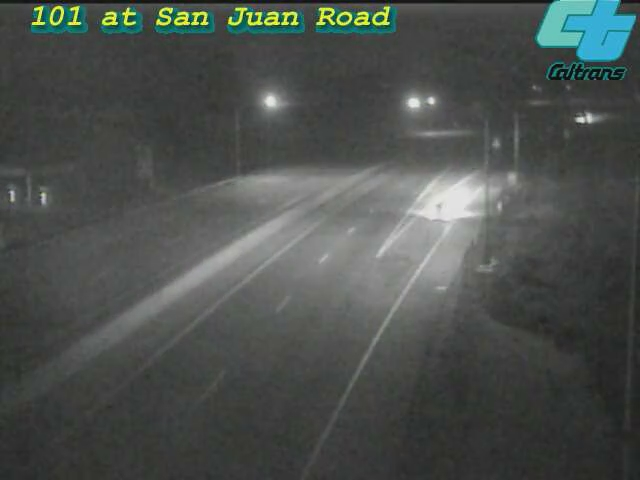vehicle: (403, 168, 483, 248), (559, 91, 609, 141)
